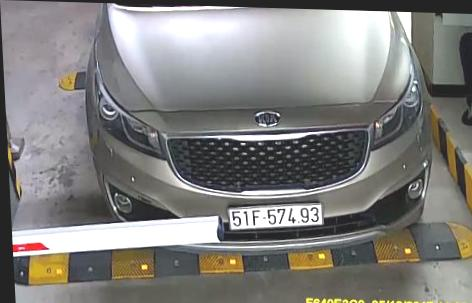License_Plate: (222, 198, 331, 234)
